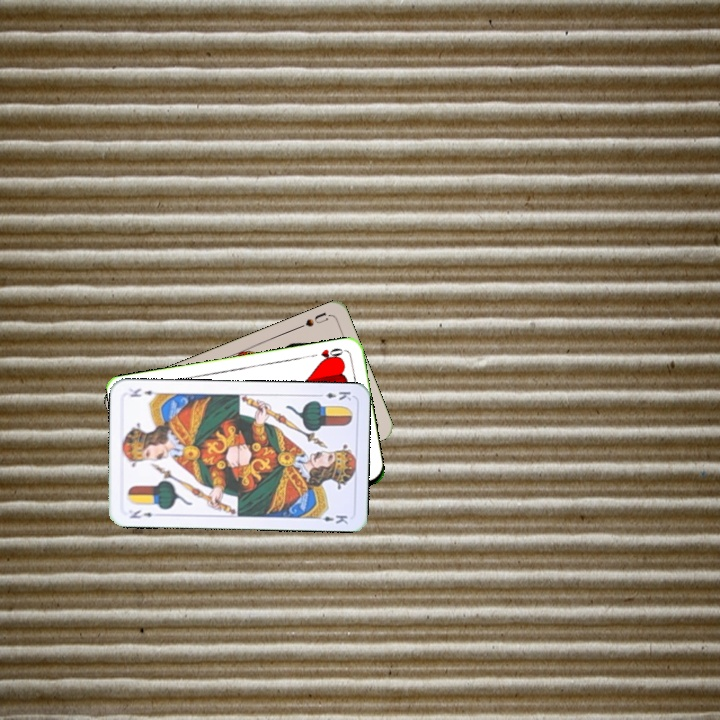EK: (313, 387, 354, 403), (126, 506, 155, 521)
HO: (307, 344, 347, 365)
SU: (293, 308, 332, 332)
